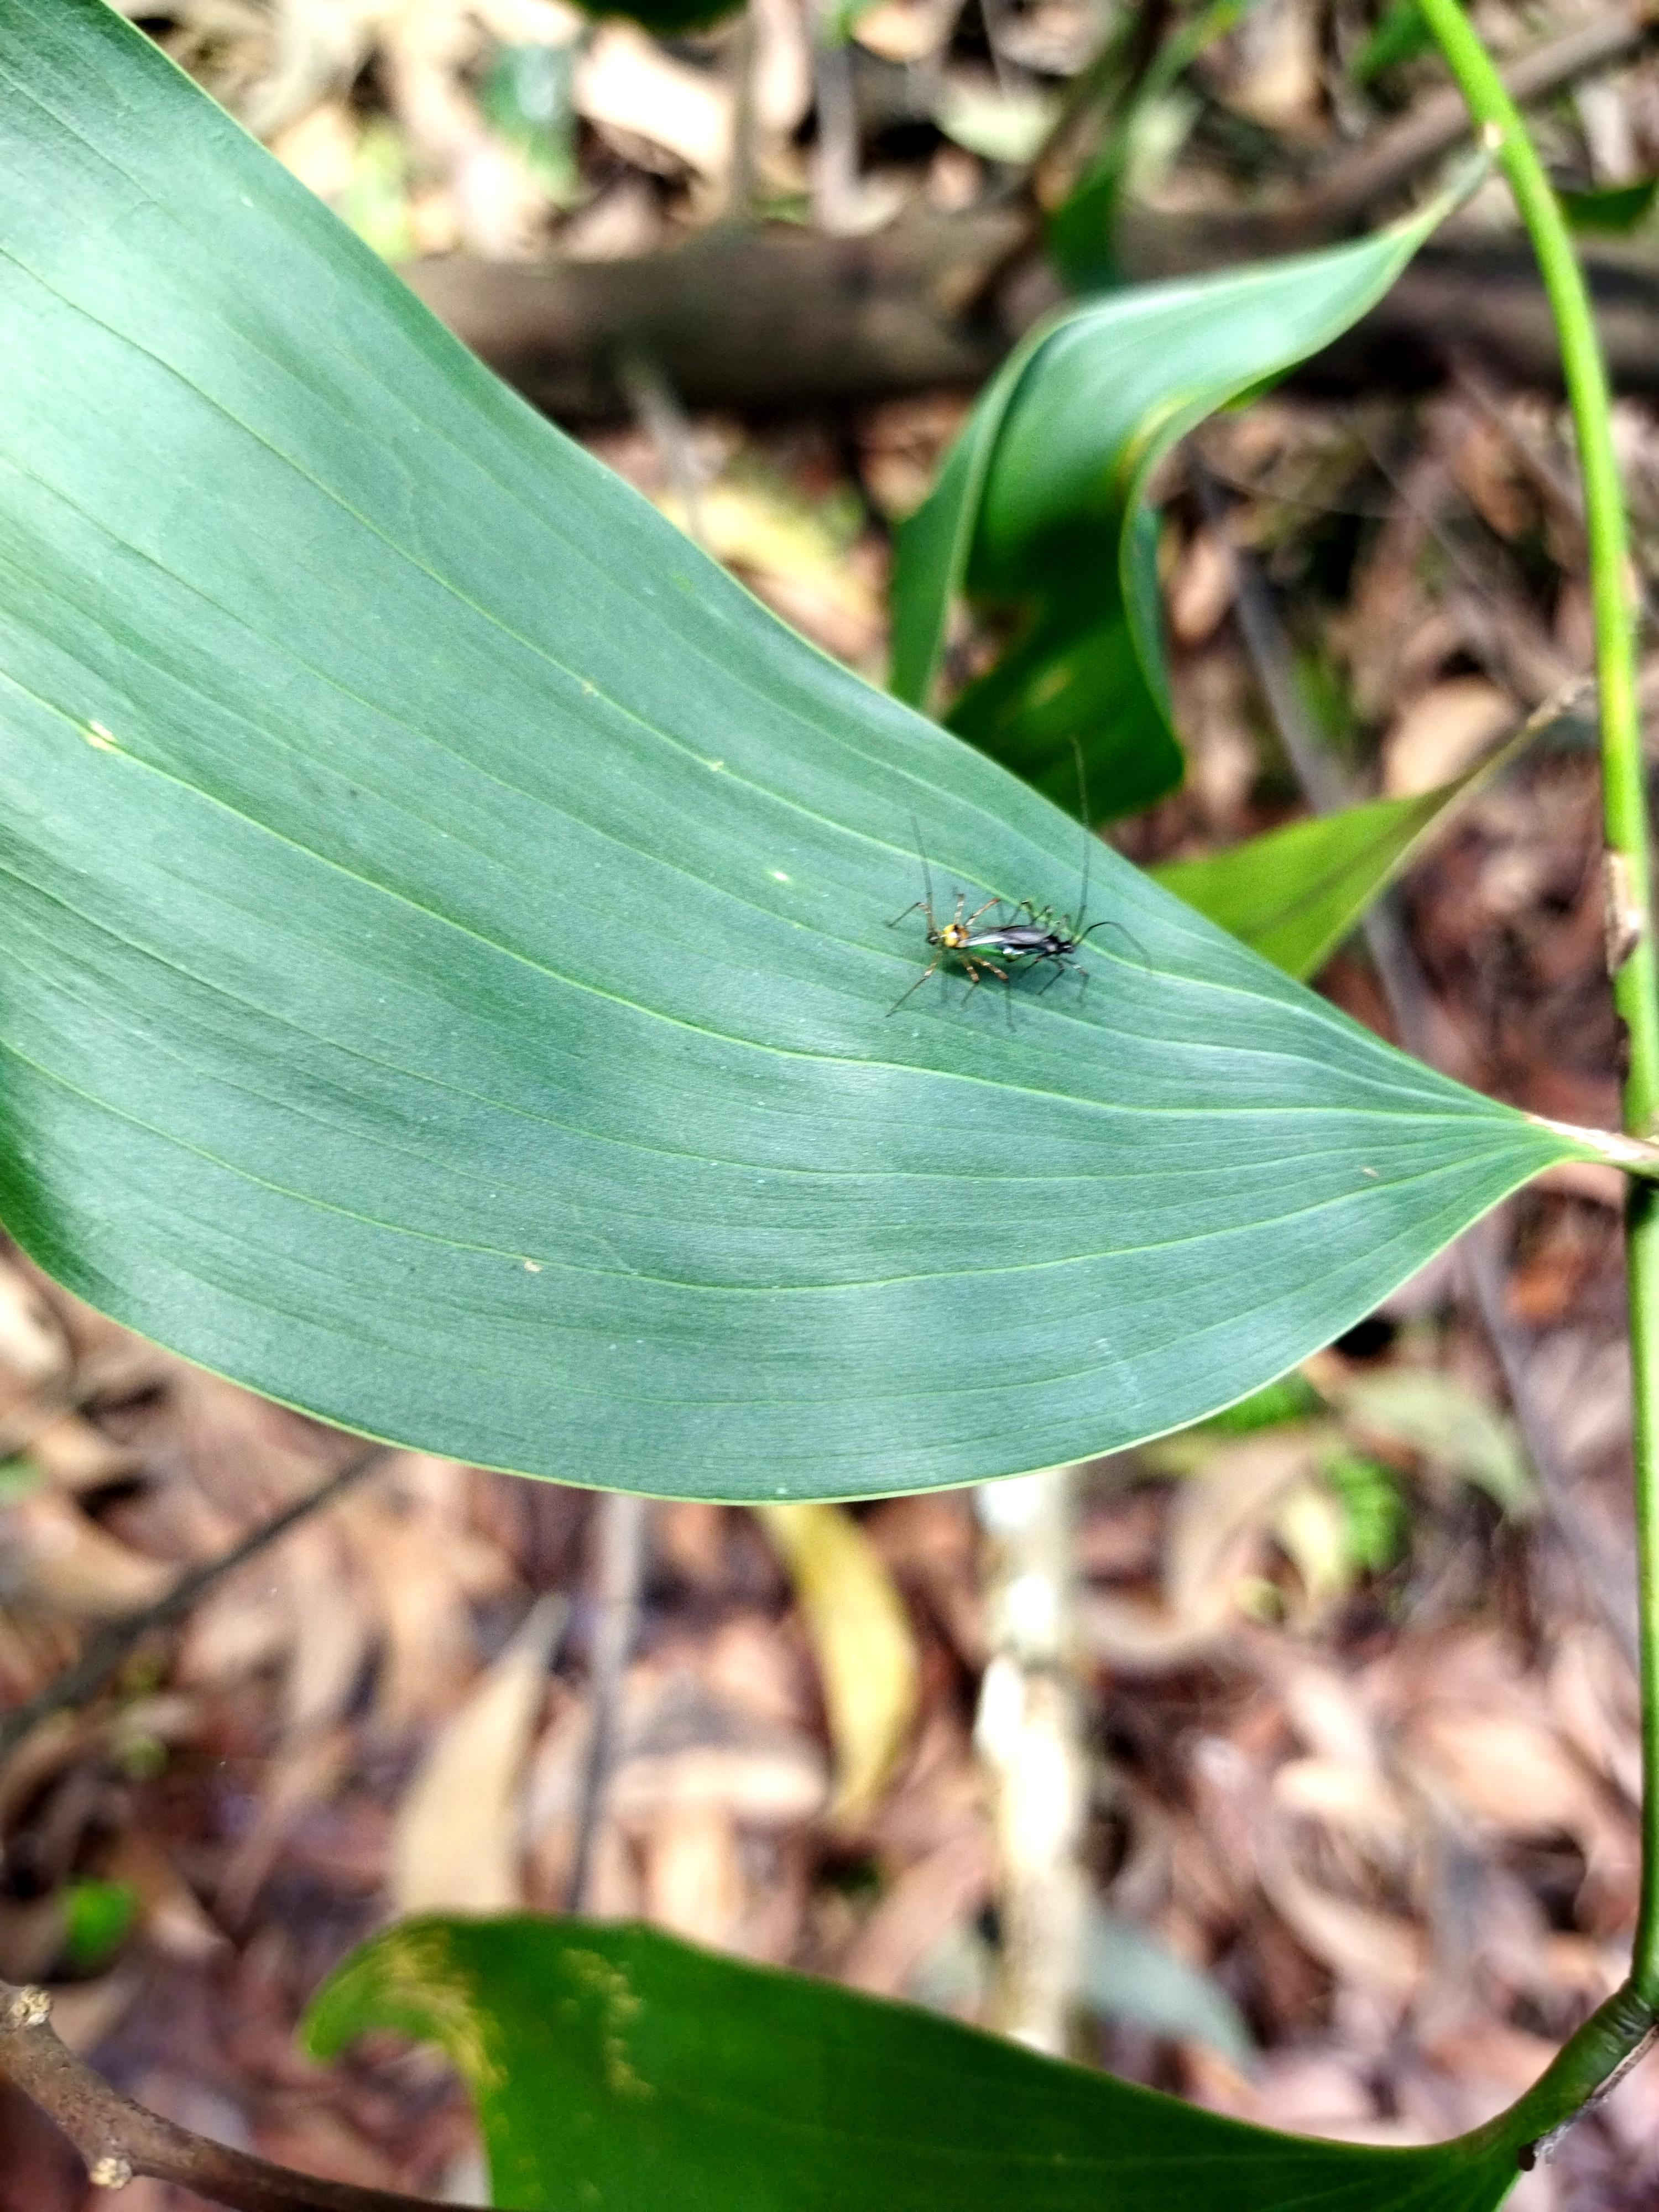Helopeltis-insect: (870, 887, 1178, 1089)
